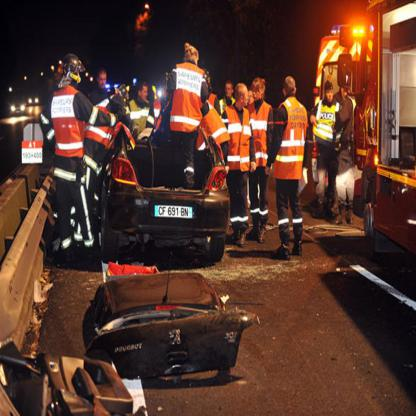face: (73, 66, 81, 85), (99, 74, 107, 89), (142, 86, 149, 103), (242, 90, 249, 107), (254, 88, 262, 102), (327, 90, 334, 104), (248, 92, 254, 105), (226, 85, 232, 96)
